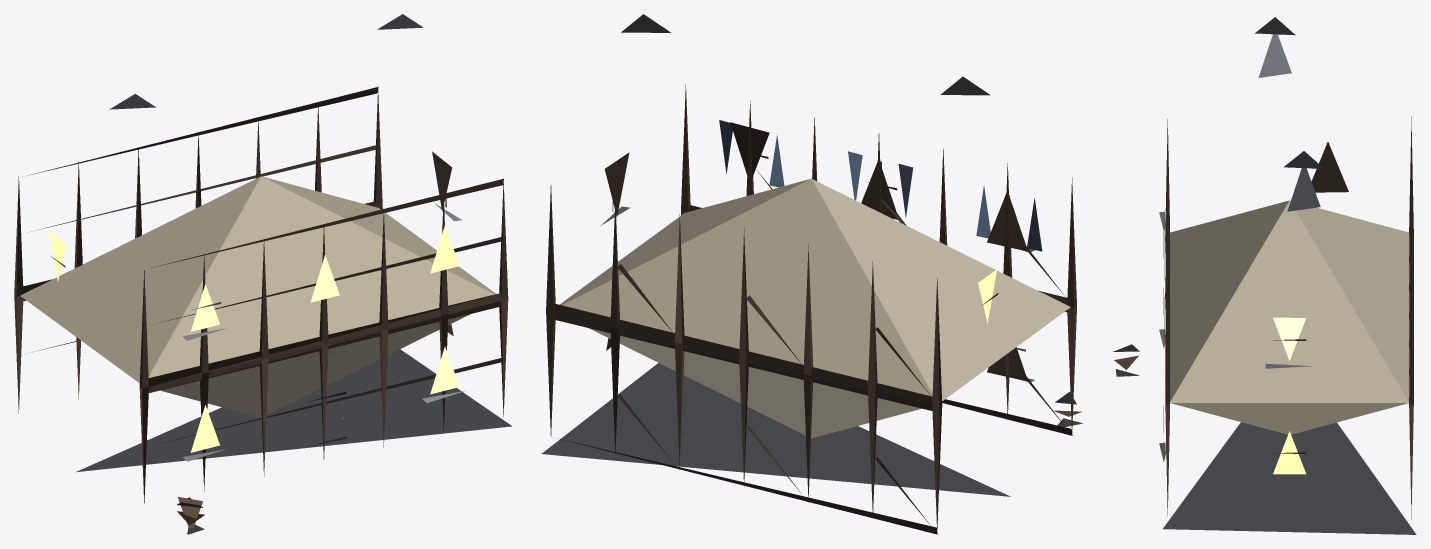
The model's file is bree_house_timber_2_lod2.glb.
3 views of the same model, side by side, from view 1: azimuth 30°, elevation 25°; view 2: azimuth 150°, elevation 25°; view 3: azimuth 270°, elevation 25° (orthographic). The views are drawn at different scales.
Parts seen in each view (by area): view 1: bree_house_timber_2_lod2; view 2: bree_house_timber_2_lod2; view 3: bree_house_timber_2_lod2.
Part boxes in pixels (box(x1,y1,x2,y2)): bree_house_timber_2_lod2: box(14, 14, 511, 534); bree_house_timber_2_lod2: box(541, 14, 1082, 534); bree_house_timber_2_lod2: box(1113, 17, 1416, 534).
Bounding box in the file's own units: 9.2 × 8.45 × 6.35.
